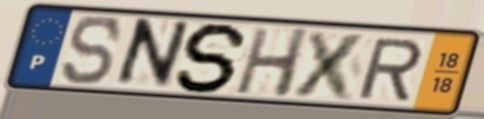H: (231, 26, 313, 101)
N: (109, 16, 195, 91)
R: (354, 36, 426, 102)
S: (172, 20, 253, 95), (60, 13, 126, 87)
X: (287, 28, 374, 104)
